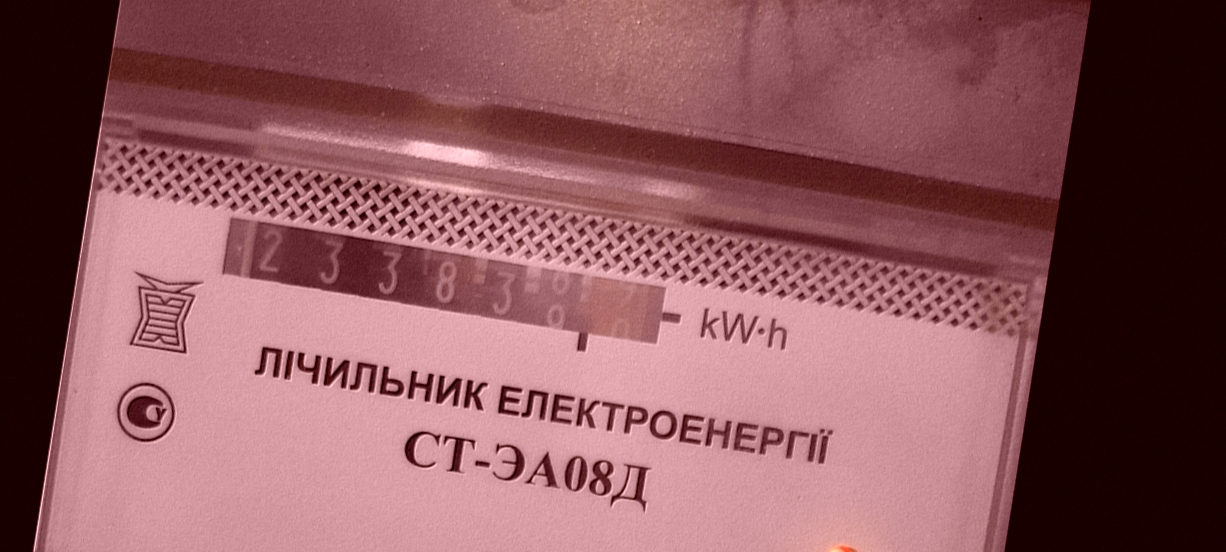0: (606, 313, 635, 342)
2: (253, 224, 288, 277)
3: (313, 236, 347, 289), (373, 247, 404, 300), (487, 267, 519, 318)
8: (430, 257, 461, 306), (545, 269, 576, 299)
9: (539, 299, 570, 332), (611, 279, 639, 310)
screen: (205, 204, 685, 368)
